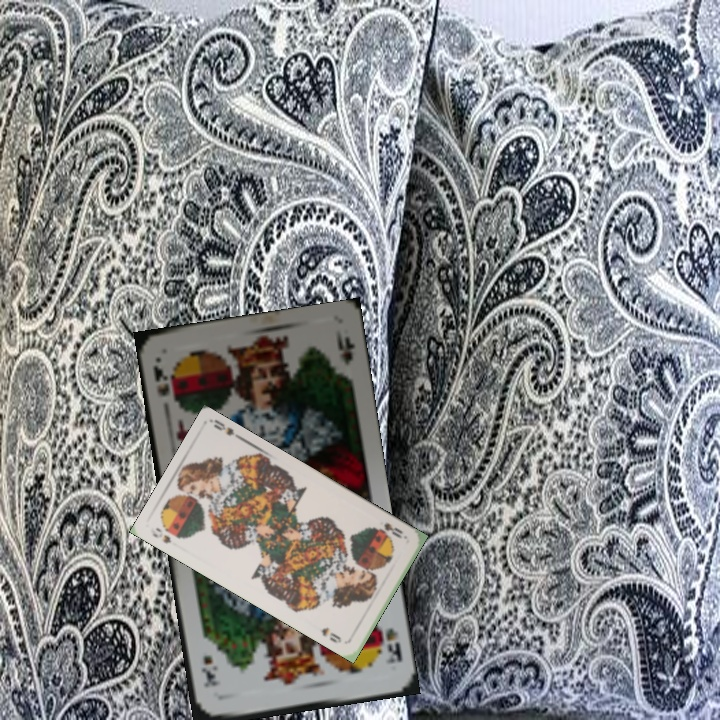SK: (381, 624, 404, 666), (149, 361, 172, 399)
SO: (148, 523, 173, 546), (380, 519, 405, 541)
